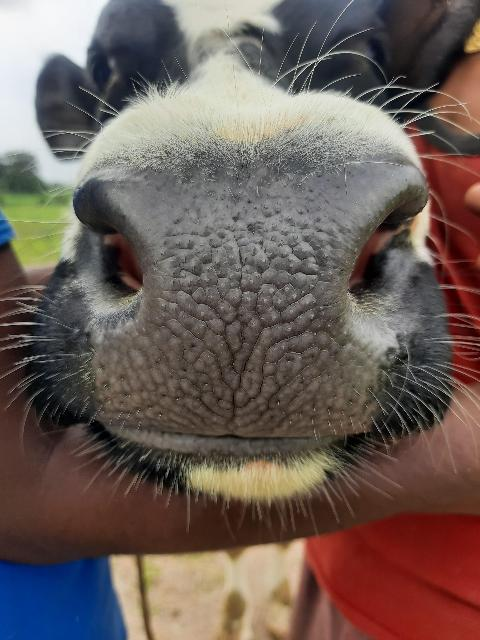Muzzle: (103, 172, 372, 436)
